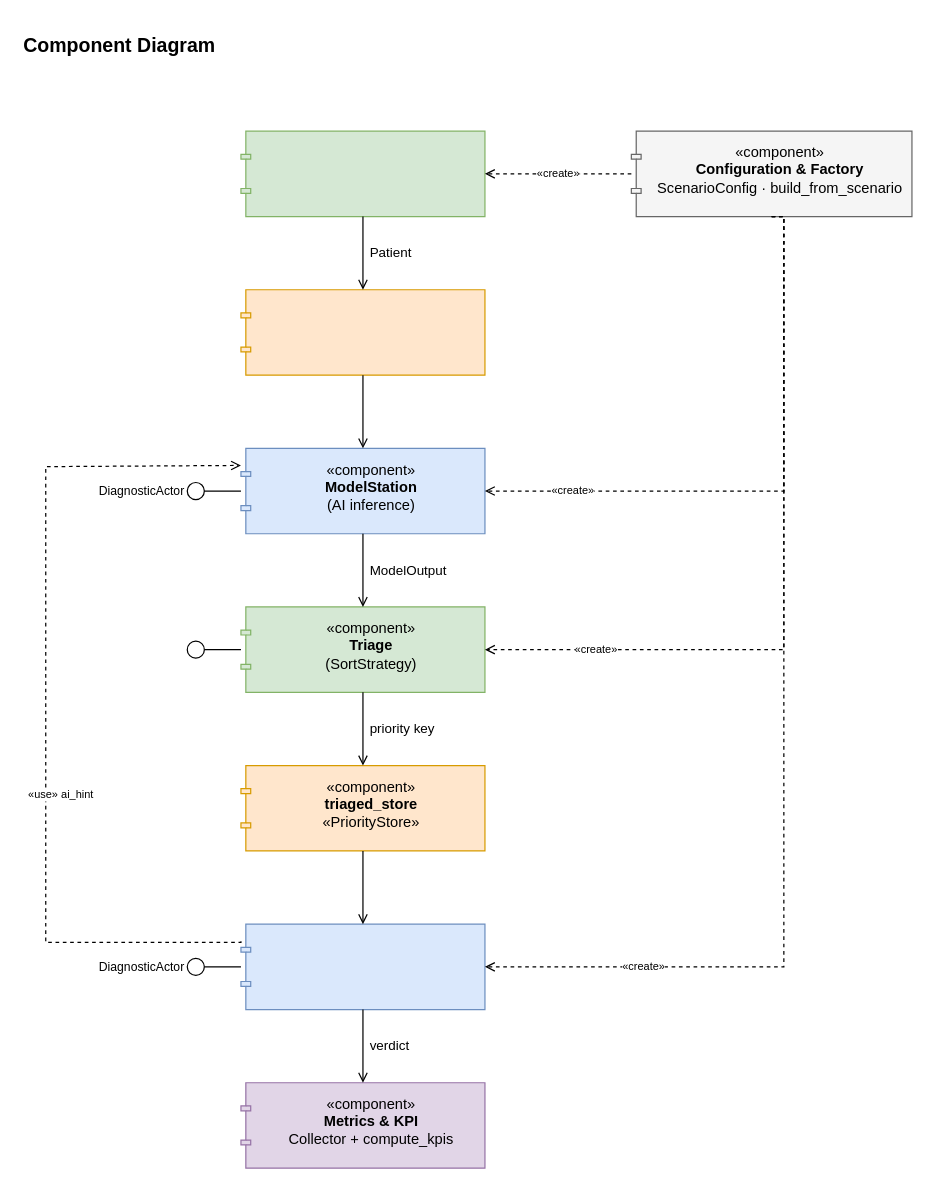
This 933x1190 diagram has some shape labels left out. Each missing label, with the centre of its shape:
"SortStrategy" goes at pixel 195 649.
"«component» DoctorStation (doctor model / persona)" goes at pixel 362 966.
"«component» input_queue «SimPy Store»" goes at pixel 362 332.
"«component» PatientGenerator" goes at pixel 362 173.
